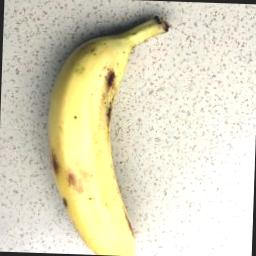Banana Ripe: (33, 15, 166, 256)
